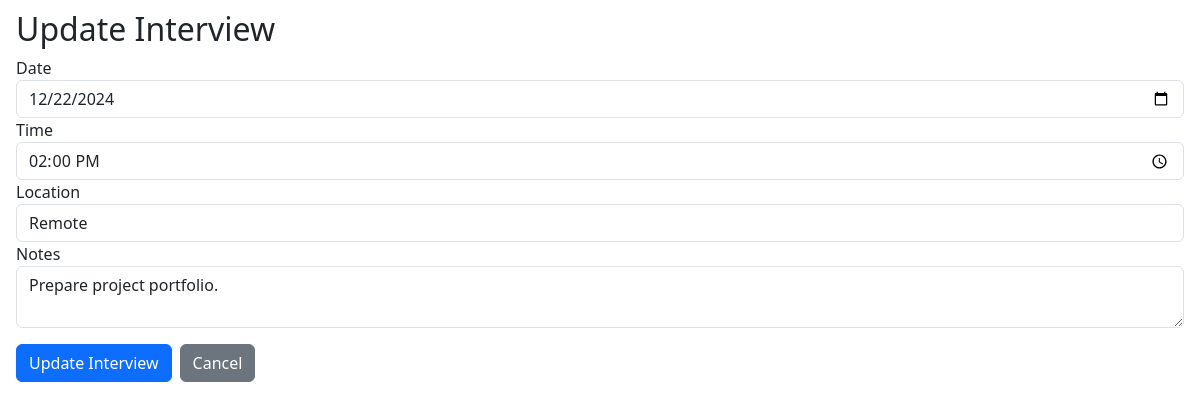
Test: InterviewUpdateForm Component › disables submit button during submission
What coordinates should you click on to do the following:
click the button "Update Interview"
I would click on:
 (94, 363)
Its box is [16,344,172,382].
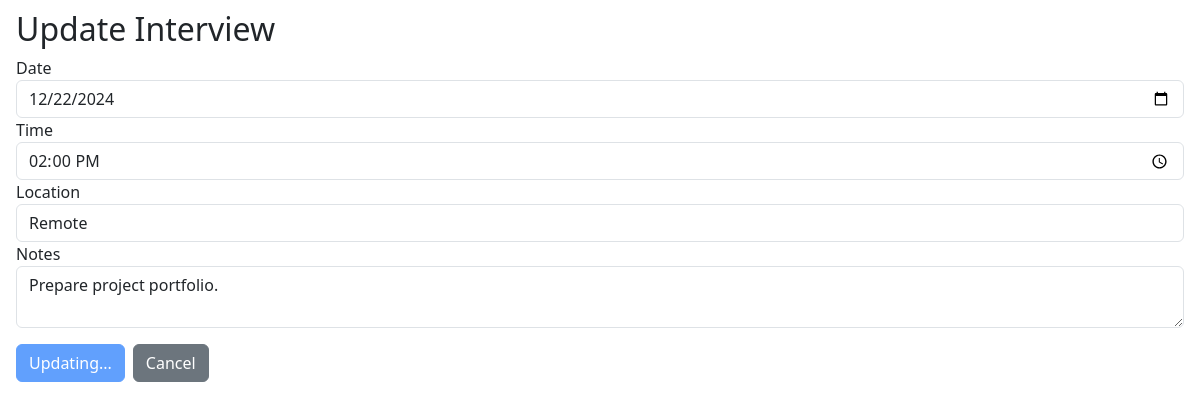
Expected: the button named "update interview" is disabled, [16,344,125,382]
